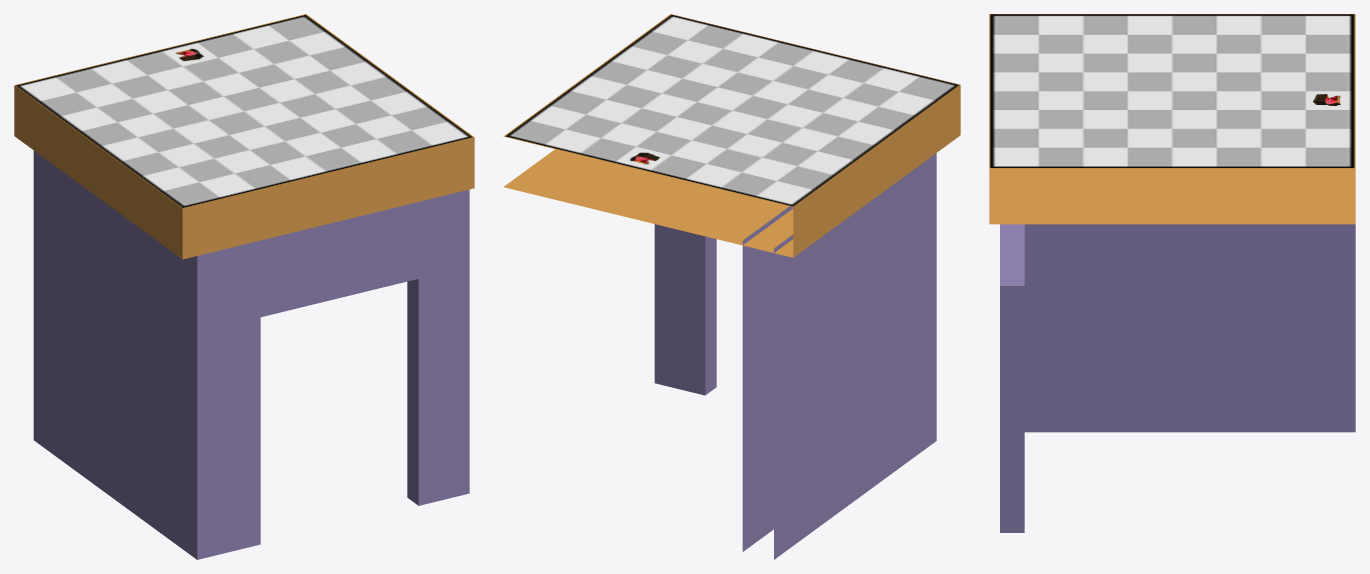
Rendered from Board.fbx.
The picture shows the model from 3 angles, left to right: view 1: azimuth 30°, elevation 25°; view 2: azimuth 150°, elevation 25°; view 3: azimuth 270°, elevation 25°; orthographic projection. The views are drawn at different scales.
Parts seen in each view (by area): view 1: Board; view 2: Board; view 3: Board.
Part boxes in pixels (box(x1,y1,x2,y2)): Board: box(14, 14, 474, 559); Board: box(503, 14, 960, 559); Board: box(989, 14, 1355, 532).
Bounding box in the file's own units: 6 × 7.07 × 6.
